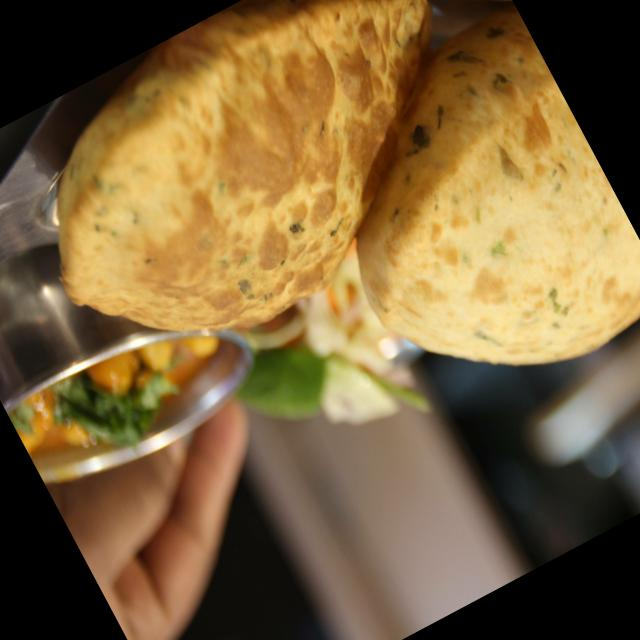Bhatura: (0, 0, 527, 402), (278, 6, 640, 434)
